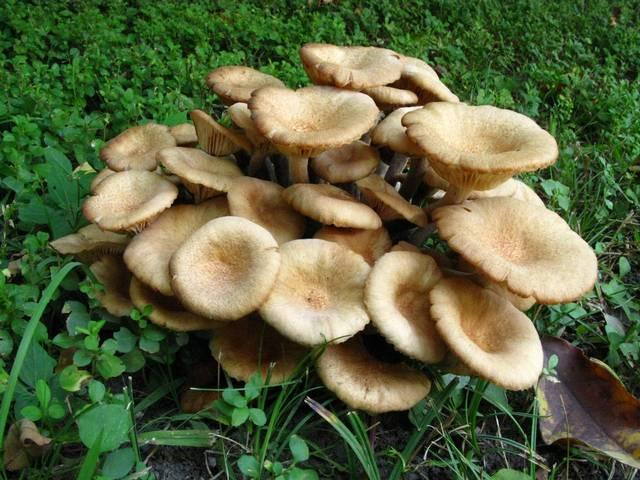edible_mushroom: (51, 41, 598, 415)
